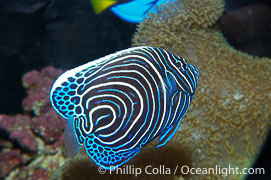Pomacanthus_imperator: (43, 43, 207, 171)
